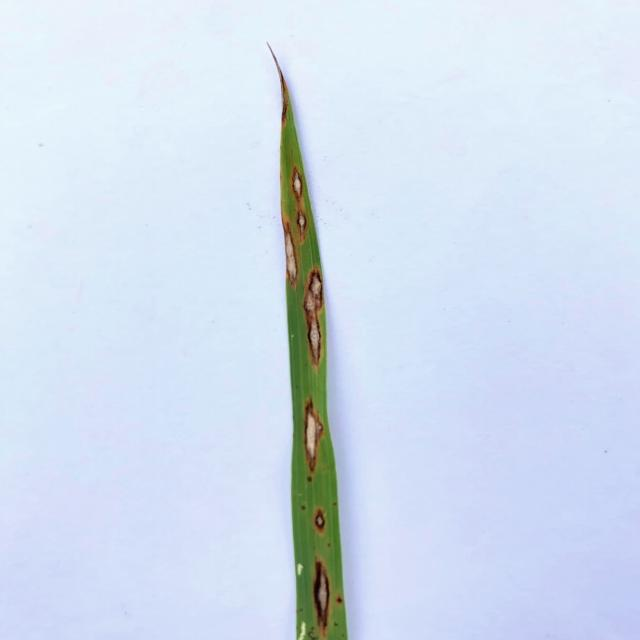leaf blast: (301, 266, 323, 370), (302, 396, 327, 471), (310, 556, 332, 637), (281, 219, 298, 285), (290, 161, 305, 205), (294, 202, 309, 244), (312, 508, 328, 537)
